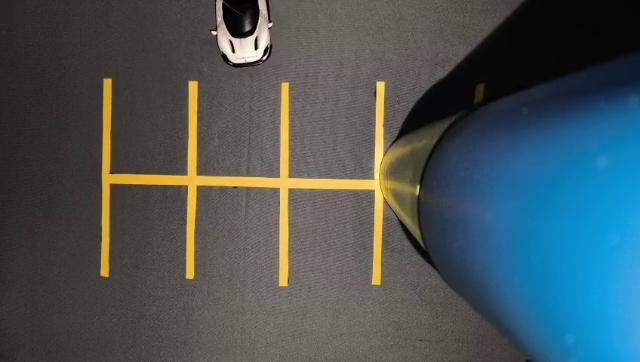toy_car: (180, 0, 302, 67)
